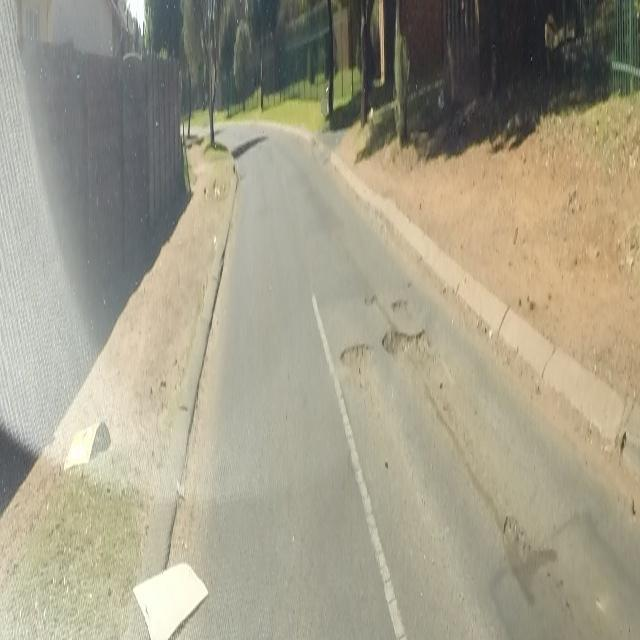pothole: (336, 324, 438, 377), (501, 507, 530, 563), (390, 290, 410, 314)
